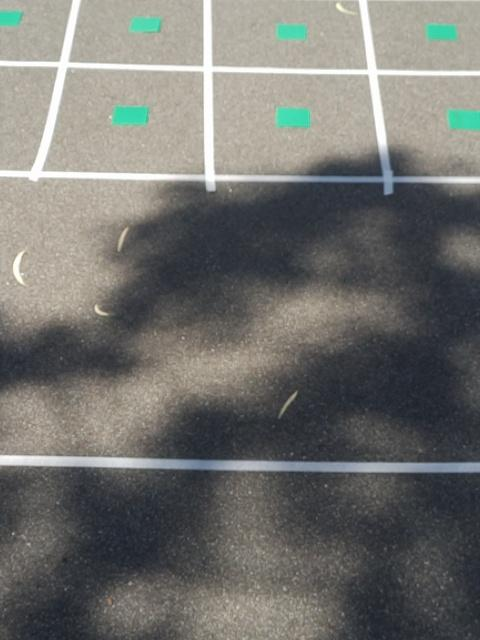weed: (109, 99, 152, 131), (272, 103, 318, 131), (443, 102, 480, 135), (124, 12, 169, 39), (422, 18, 462, 46), (273, 17, 311, 46), (0, 5, 28, 25)
